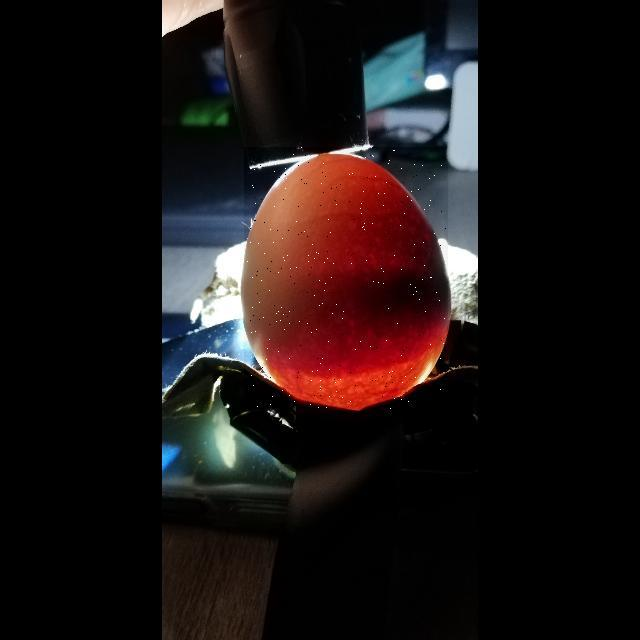Fertile: (244, 147, 448, 409)
